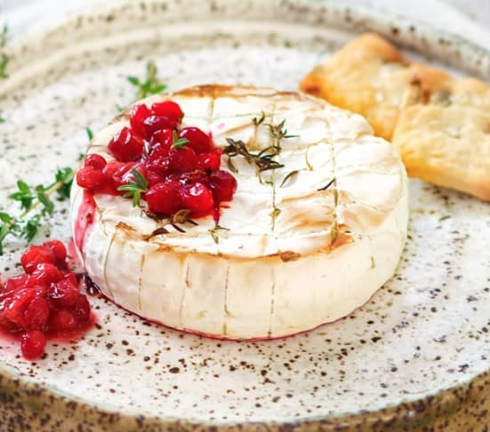camembert: (66, 81, 412, 344)
